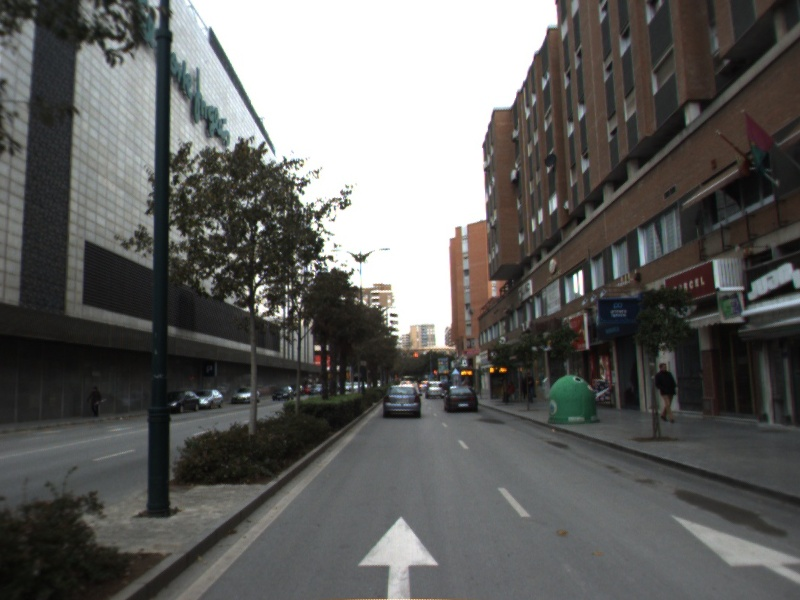STRAIGHT: (666, 509, 800, 589), (353, 511, 444, 600)
